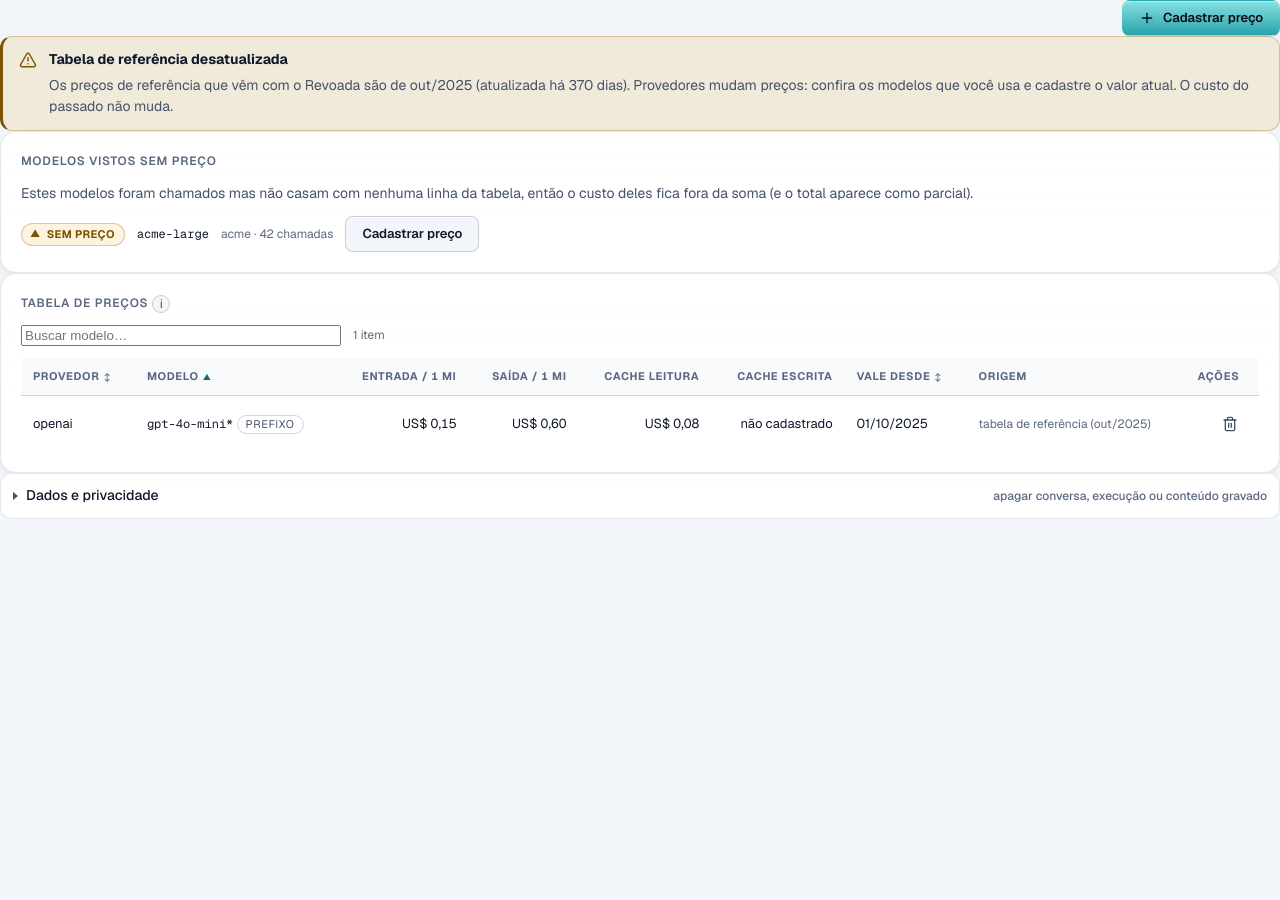
Test: Modelos e preços › 'Cadastrar preço' de um modelo sem preço abre o modal já preenchido
The width and height of the screenshot is (1280, 900).
Click the button with aria-label "Cadastrar preço de acme-large".
click(412, 234)  # box [345,216,479,252]
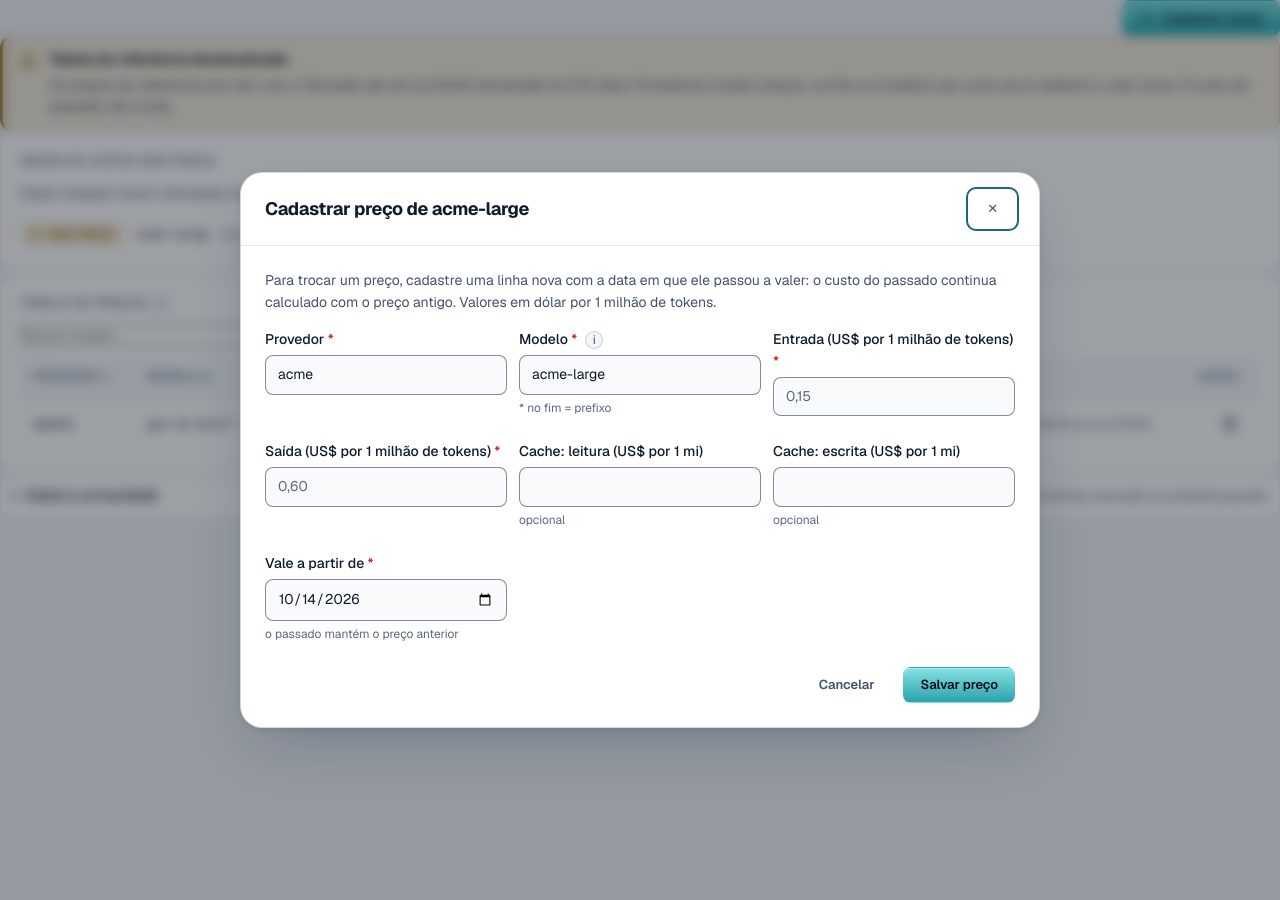
Expected: the field labelled "Provedor *" holds "acme", [265,355,507,395]
Expected: the field labelled "Modelo *" holds "acme-large", [519,355,761,395]
Click the button "Cancelar".
click(847, 685)  # box [802,667,892,703]
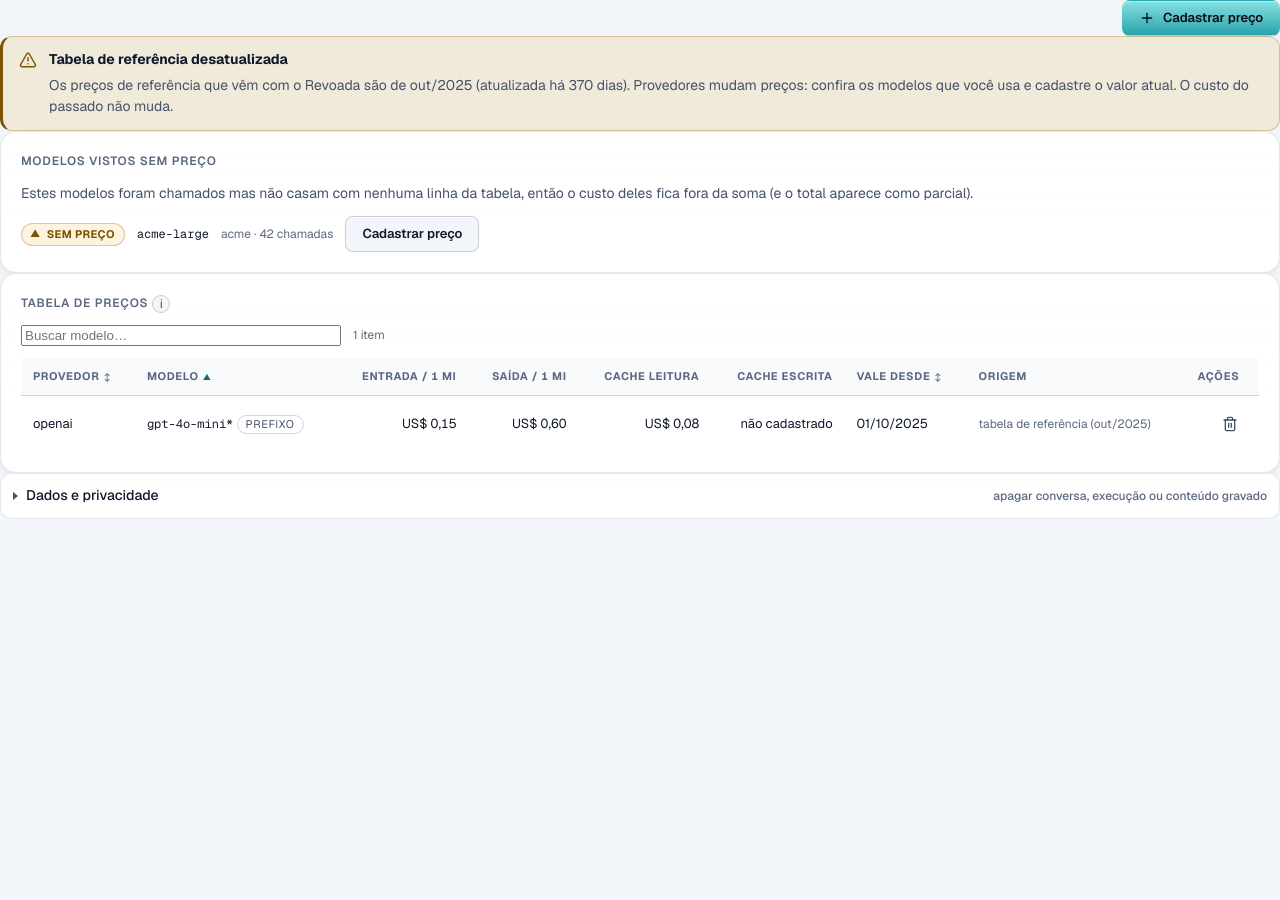
Expected: the dialog is gone
